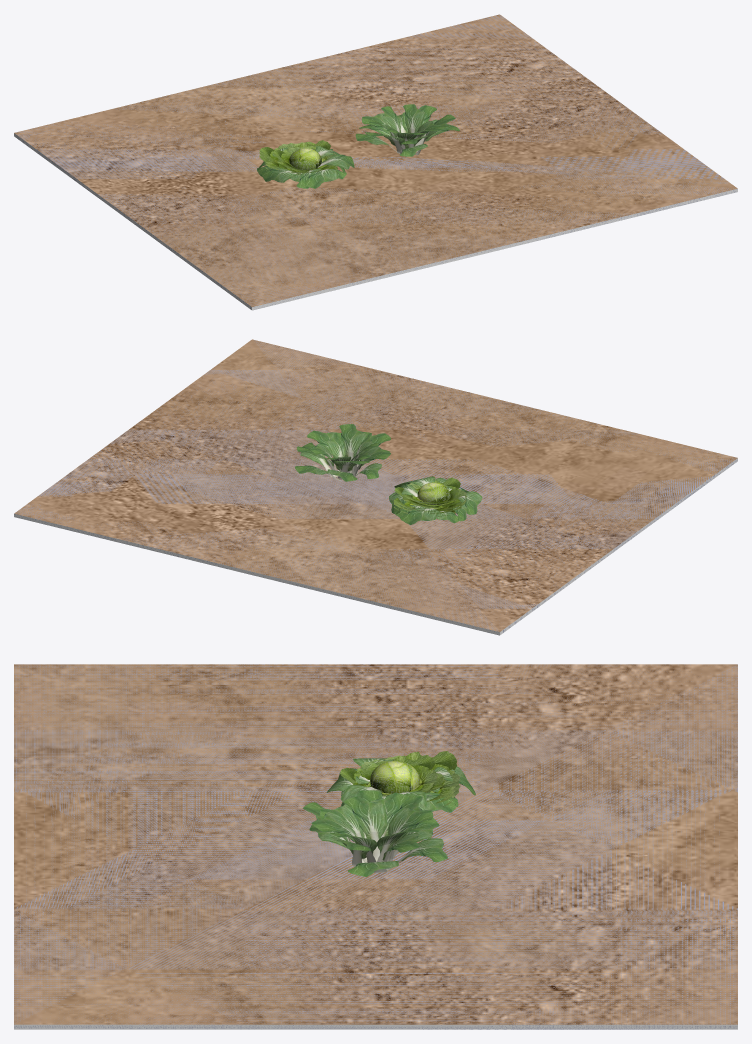
The picture shows the model from 3 angles, top to bottom: view 1: azimuth 30°, elevation 25°; view 2: azimuth 150°, elevation 25°; view 3: azimuth 270°, elevation 25°; orthographic projection. The views are drawn at different scales.
Visible parts, largest first — view 1: group_36 (×2), group_32; view 2: group_36 (×2), group_13, group_32; view 3: group_36 (×2), group_32, group_12, group_33, group_28, group_16, group_8, group_13.
Part boxes in pixels (box(x1,y1,x2,y2)): group_36 (×2): box(14, 14, 737, 310); group_32: box(289, 148, 321, 170); group_36 (×2): box(14, 339, 737, 635); group_13: box(339, 424, 367, 473); group_32: box(417, 482, 450, 505); group_36 (×2): box(14, 664, 737, 1029); group_32: box(370, 760, 419, 793); group_12: box(343, 796, 387, 861); group_33: box(359, 755, 437, 791); group_28: box(388, 751, 460, 801); group_16: box(387, 808, 433, 861); group_8: box(386, 838, 447, 870); group_13: box(311, 811, 367, 862).
Size of the model in its own units: 1712 by 1454 by 133.
Materials: 5 (3 with a texture image).
